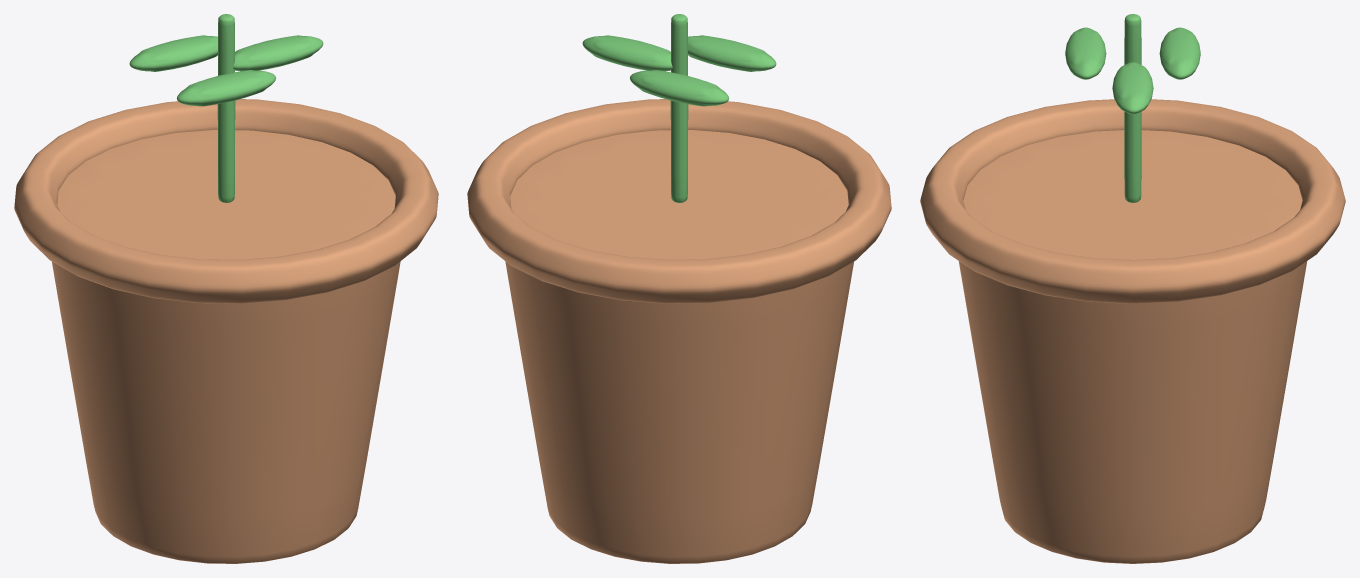
The model's file is flower_pot.glb.
3 renders of one model, left to right at view 1: azimuth 30°, elevation 25°; view 2: azimuth 150°, elevation 25°; view 3: azimuth 270°, elevation 25°, orthographic.
Parts seen in each view (by area): view 1: flower_pot; view 2: flower_pot; view 3: flower_pot.
Boxes of the visible parts, left/top/right/bottom form: flower_pot: left=14, top=14, right=438, bottom=563; flower_pot: left=467, top=14, right=891, bottom=563; flower_pot: left=920, top=14, right=1345, bottom=563.
Bounding box in the file's own units: 0.6238 × 0.7999 × 0.6237.
